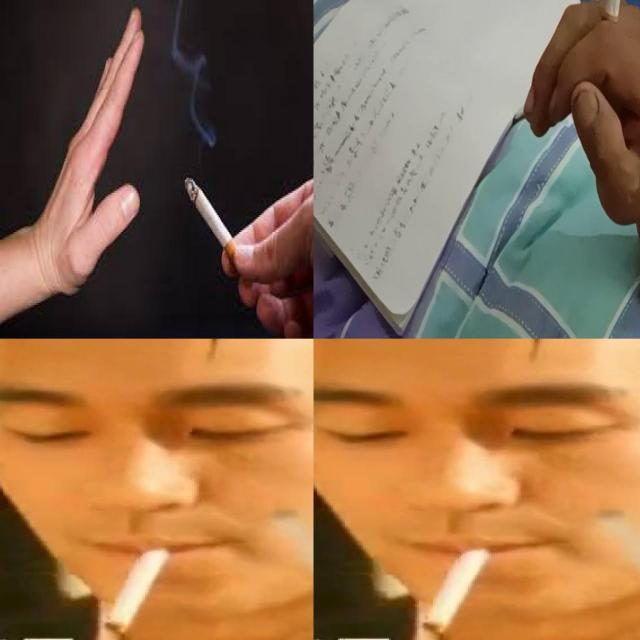cigarette: (184, 176, 315, 337), (422, 534, 504, 635), (105, 534, 183, 635), (600, 0, 632, 46)
